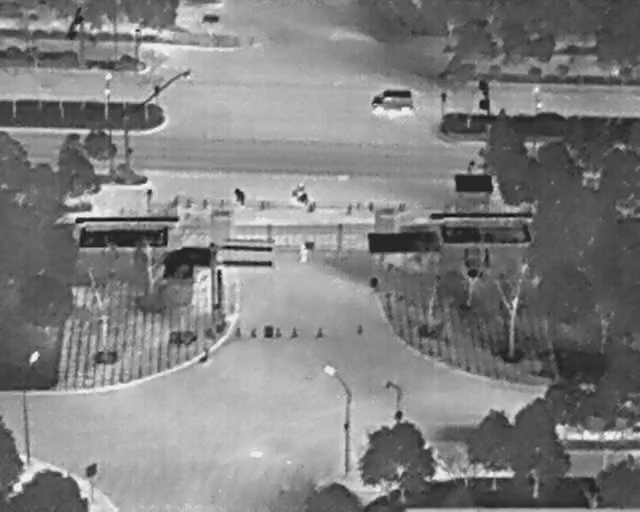Bicycle: (288, 180, 317, 209)
OtherVehicle: (369, 88, 416, 115)
Person: (299, 245, 308, 264)
